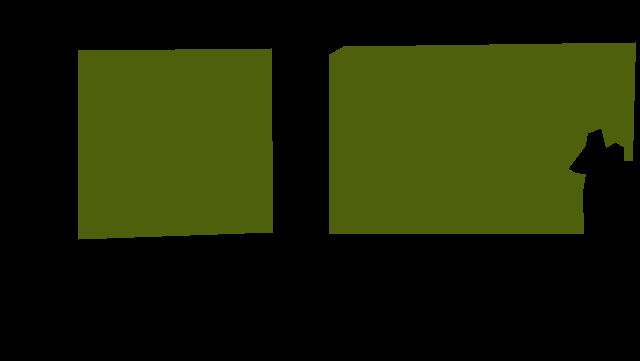Train: (78, 42, 635, 240)
